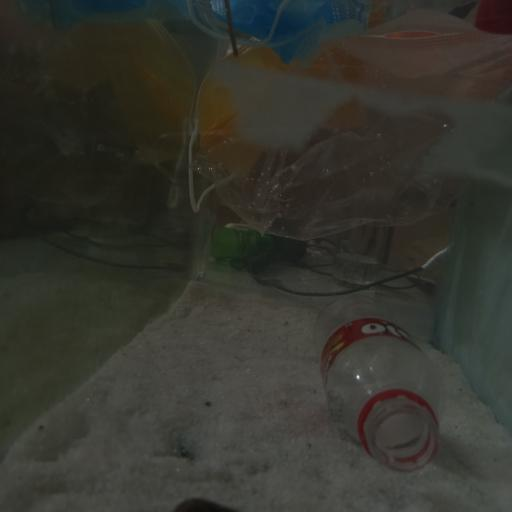mask: (188, 42, 316, 201), (330, 29, 512, 96), (194, 0, 362, 64)
plastic_bag: (195, 107, 456, 241)
plastic_bottle: (314, 296, 442, 469)
